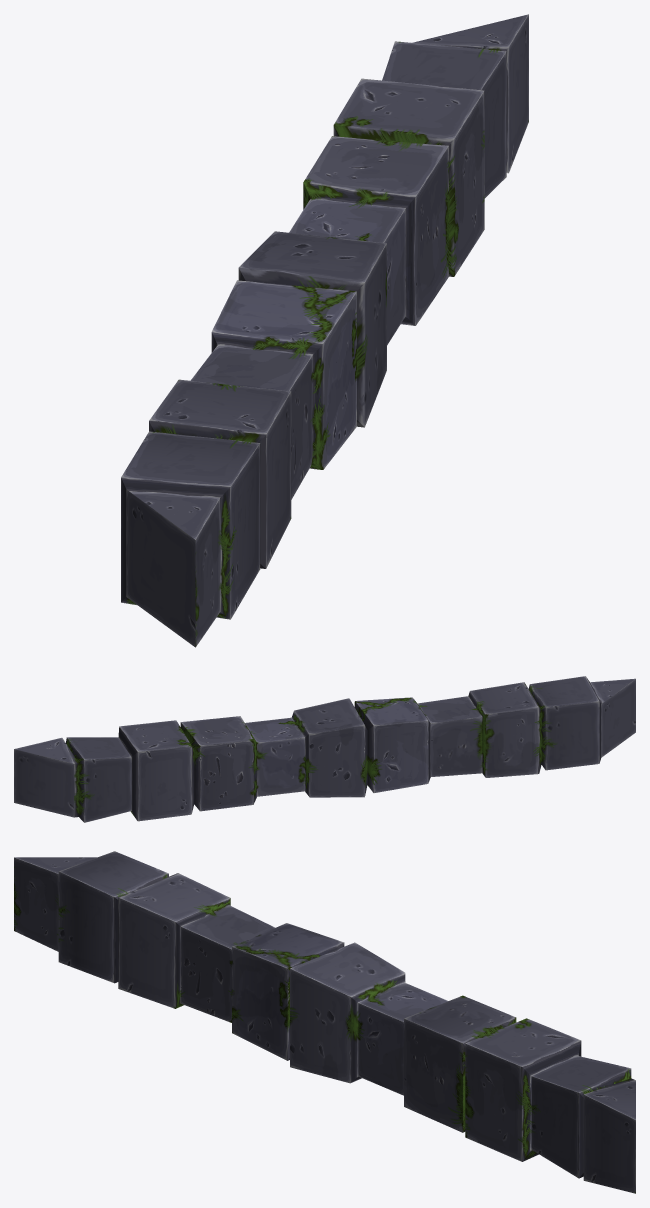
File: MOD_WallCover_01_E_angle_2.fbx
3 renders of one model, top to bottom at view 1: azimuth 30°, elevation 25°; view 2: azimuth 150°, elevation 25°; view 3: azimuth 270°, elevation 25°, orthographic. The views are drawn at different scales.
Visible parts, largest first — view 1: MOD_WallCover_01_E_angle_2; view 2: MOD_WallCover_01_E_angle_2; view 3: MOD_WallCover_01_E_angle_2.
Part boxes in pixels (x1,y1,x2,y2): MOD_WallCover_01_E_angle_2: (121, 14, 528, 647); MOD_WallCover_01_E_angle_2: (14, 676, 635, 822); MOD_WallCover_01_E_angle_2: (14, 851, 635, 1193).
Bounding box in the file's own units: 460 × 80.52 × 460.
